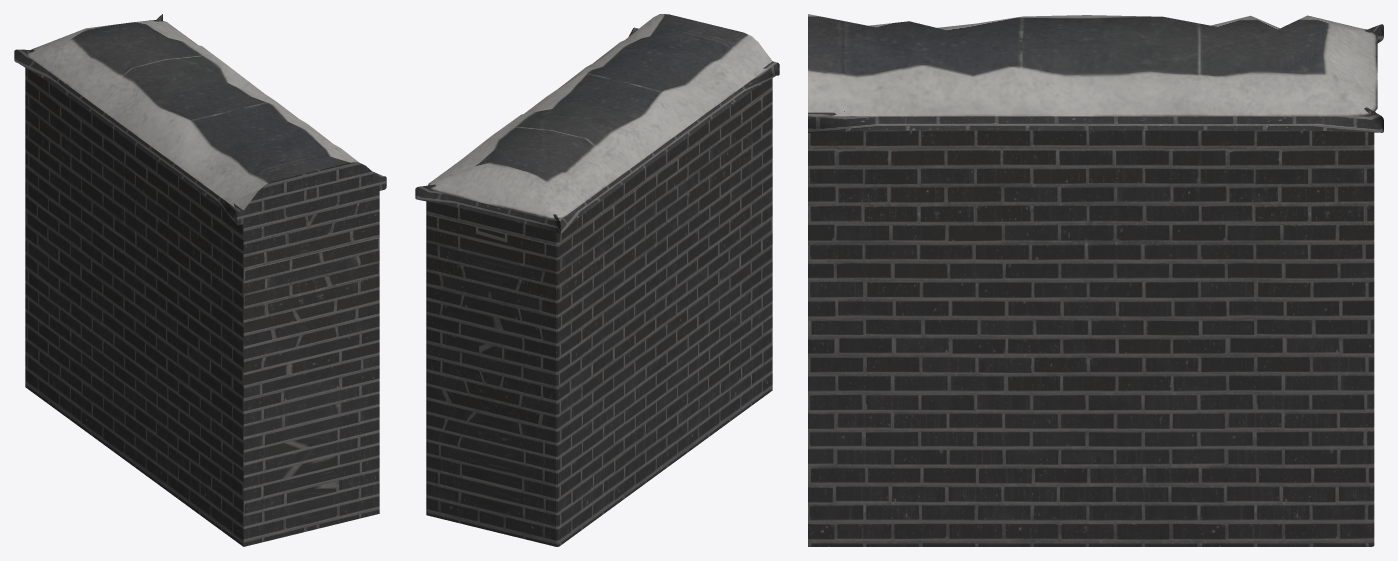
File: SM_GH_Parapet_004.fbx
3 renders of one model, left to right at view 1: azimuth 30°, elevation 25°; view 2: azimuth 150°, elevation 25°; view 3: azimuth 270°, elevation 25°, orthographic. The views are drawn at different scales.
Visible parts, largest first — view 1: SM_GH_Parapet_004; view 2: SM_GH_Parapet_004; view 3: SM_GH_Parapet_004.
Boxes of the visible parts, <box> form: SM_GH_Parapet_004: <box>14,14,386,546</box>; SM_GH_Parapet_004: <box>415,14,779,546</box>; SM_GH_Parapet_004: <box>808,14,1383,546</box>.
Bounding box in the file's own units: 97.5 × 251 × 222.
2 materials, 2 textured.
